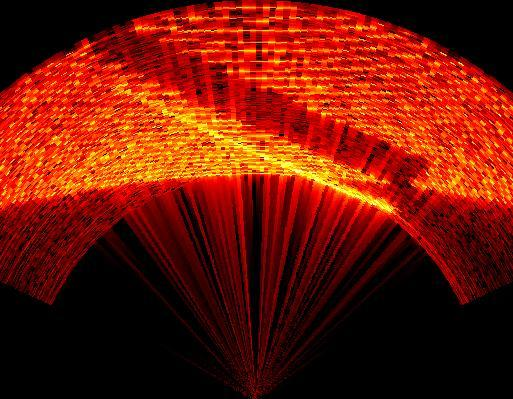pipe: (82, 22, 430, 189)
